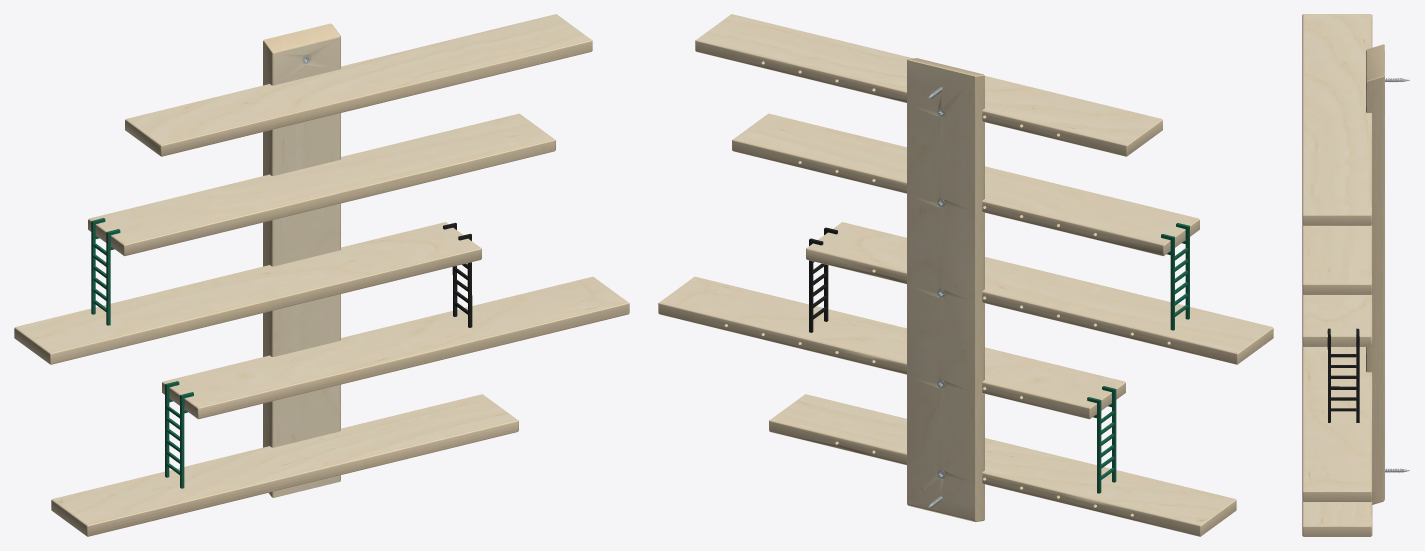
The picture shows the model from 3 angles, left to right: view 1: azimuth 30°, elevation 25°; view 2: azimuth 150°, elevation 25°; view 3: azimuth 270°, elevation 25°; orthographic projection. The views are drawn at different scales.
Parts seen in each view (by area): view 1: model; view 2: model; view 3: model.
Part boxes in pixels (left/top/right/bottom): model: left=14, top=14, right=629, bottom=536; model: left=658, top=14, right=1273, bottom=536; model: left=1302, top=14, right=1409, bottom=536.
Bounding box in the file's own units: 0.503 × 0.3744 × 0.0853.
Materials: 1 (1 with a texture image).
